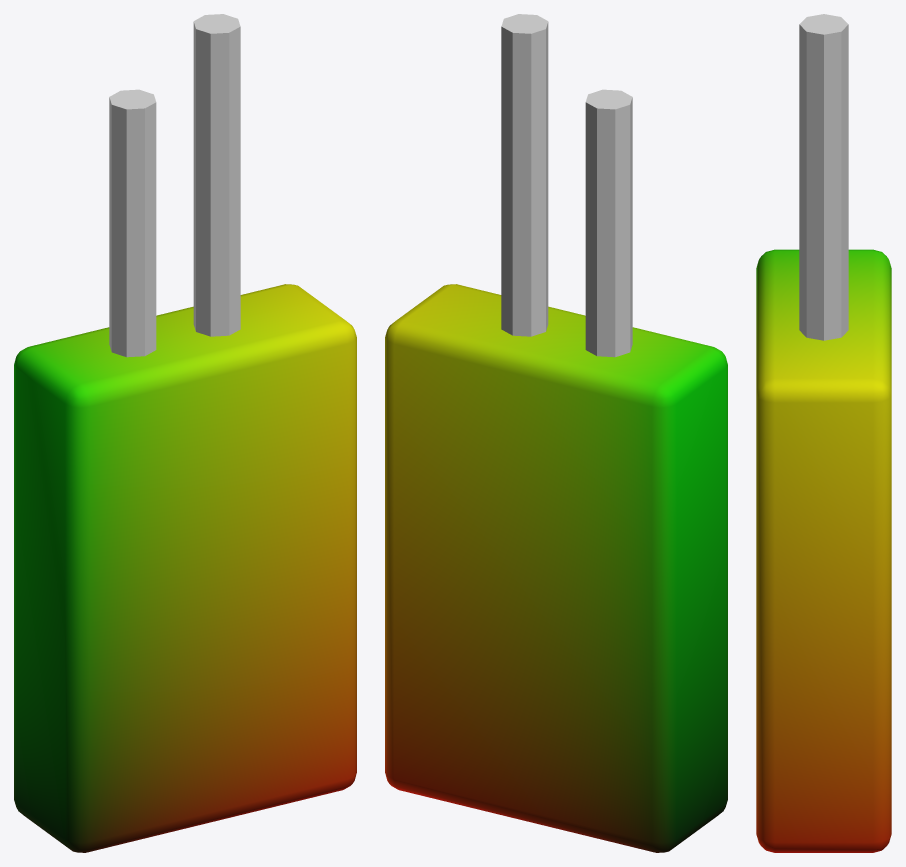
Rendered from cigarette_pack.glb.
3 renders of one model, left to right at view 1: azimuth 30°, elevation 25°; view 2: azimuth 150°, elevation 25°; view 3: azimuth 270°, elevation 25°, orthographic.
Visible parts, largest first — view 1: cigarette_pack; view 2: cigarette_pack; view 3: cigarette_pack.
Boxes of the visible parts, x1=… form: cigarette_pack: x1=14, y1=14, x2=356, y2=852; cigarette_pack: x1=385, y1=14, x2=727, y2=852; cigarette_pack: x1=756, y1=14, x2=891, y2=852.
Bounding box in the file's own units: 0.055 × 0.14 × 0.022.
